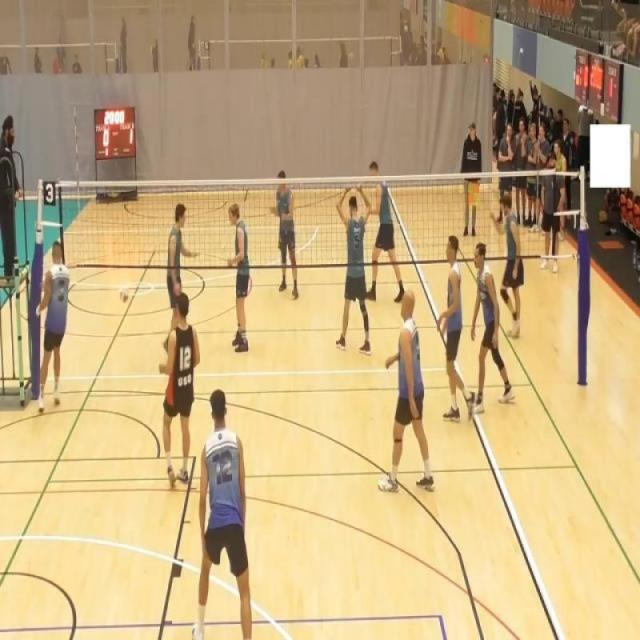volleyball: (119, 286, 129, 302)
